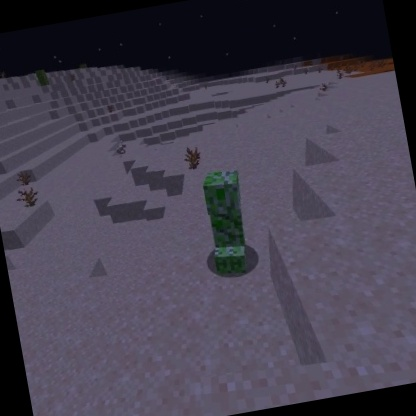creeper: (192, 165, 260, 283)
